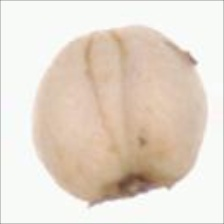L5: (83, 29, 140, 170), (84, 171, 181, 209)
L6: (30, 23, 210, 208)
